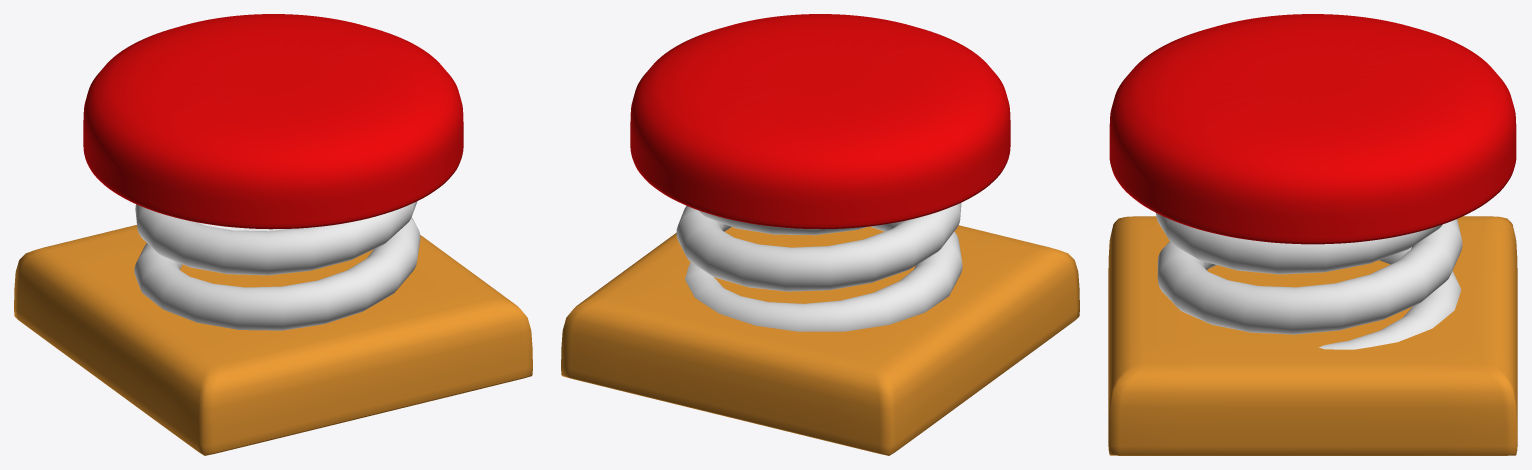
The model's file is ressort.fbx.
3 views of the same model, side by side, from view 1: azimuth 30°, elevation 25°; view 2: azimuth 150°, elevation 25°; view 3: azimuth 270°, elevation 25° (orthographic). The views are drawn at different scales.
Parts seen in each view (by area): view 1: Cylinder, Cube, Circle; view 2: Cylinder, Cube, Circle; view 3: Cylinder, Cube, Circle.
Part boxes in pixels (x1,y1,x2,y2): Cylinder: [83, 14, 463, 229]; Cube: [14, 225, 532, 455]; Circle: [134, 201, 420, 330]; Cylinder: [630, 14, 1010, 229]; Cube: [561, 225, 1079, 455]; Circle: [676, 203, 962, 331]; Cylinder: [1109, 14, 1516, 244]; Cube: [1108, 216, 1517, 455]; Circle: [1156, 213, 1462, 349].
Bounding box in the file's own units: 200 × 158 × 200.
